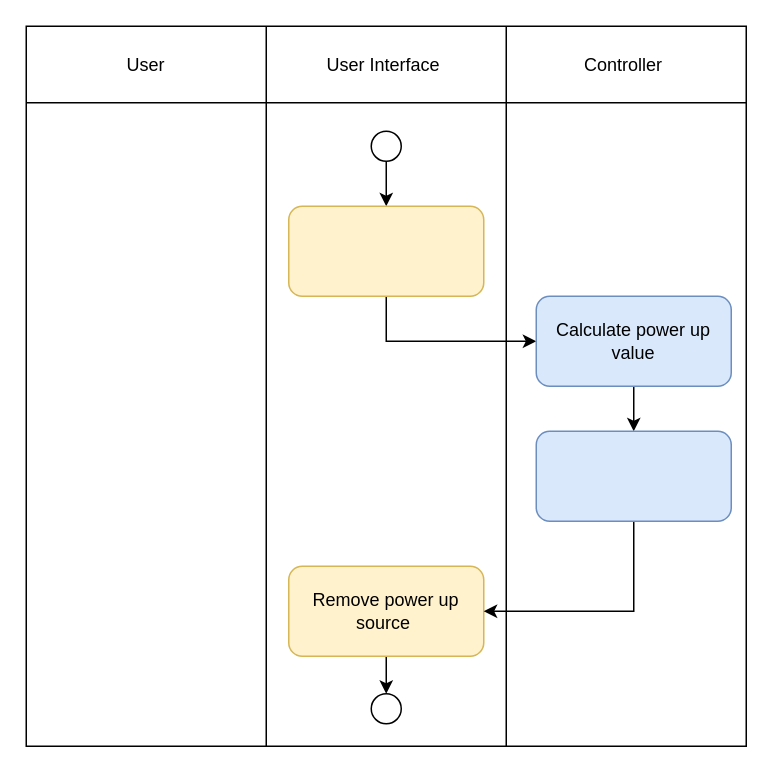
Some shapes in this 773 by 773 pixel diagram are drawn without their labels. The centre of each missing label's shape, as x and y in pixels:
Character interacted with power up source: the point at 385,250
Update character power: the point at 633,475
